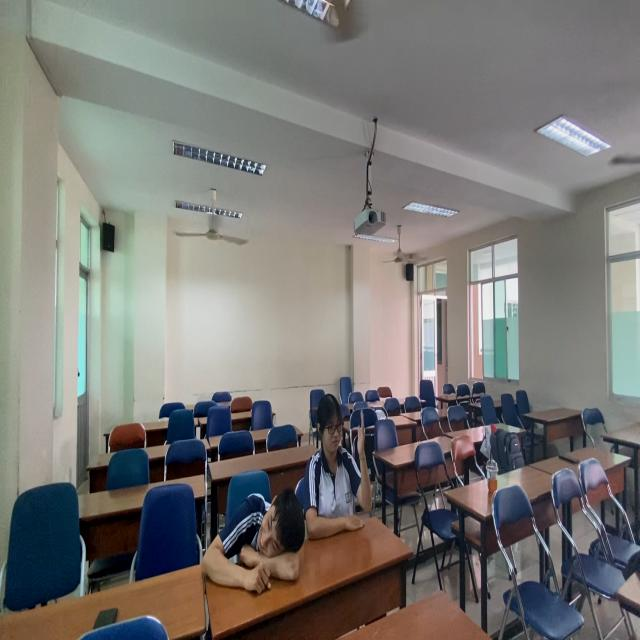raise_hand: (310, 387, 379, 566)
sleep: (201, 482, 307, 611)
